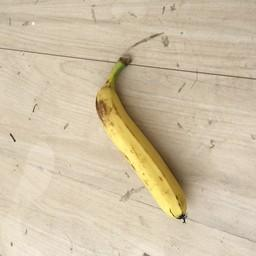Banana Ripe: (80, 54, 207, 232)
